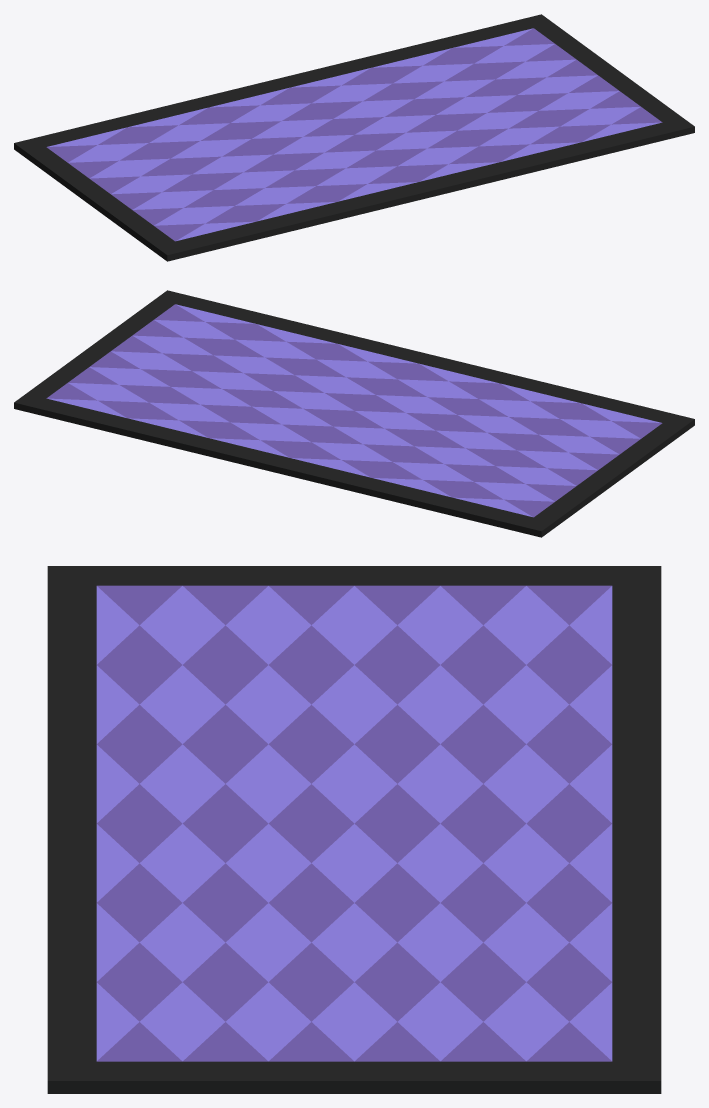
Rendered from Carpet.fbx.
3 views of the same model, one above another, from view 1: azimuth 30°, elevation 25°; view 2: azimuth 150°, elevation 25°; view 3: azimuth 270°, elevation 25° (orthographic). The views are drawn at different scales.
Parts seen in each view (by area): view 1: Carpet; view 2: Carpet; view 3: Carpet.
Boxes of the visible parts, box(x1,y1,x2,y2) form: Carpet: box(14, 14, 694, 261); Carpet: box(14, 290, 694, 537); Carpet: box(47, 566, 661, 1093).
Bounding box in the file's own units: 605 × 7 × 305.
